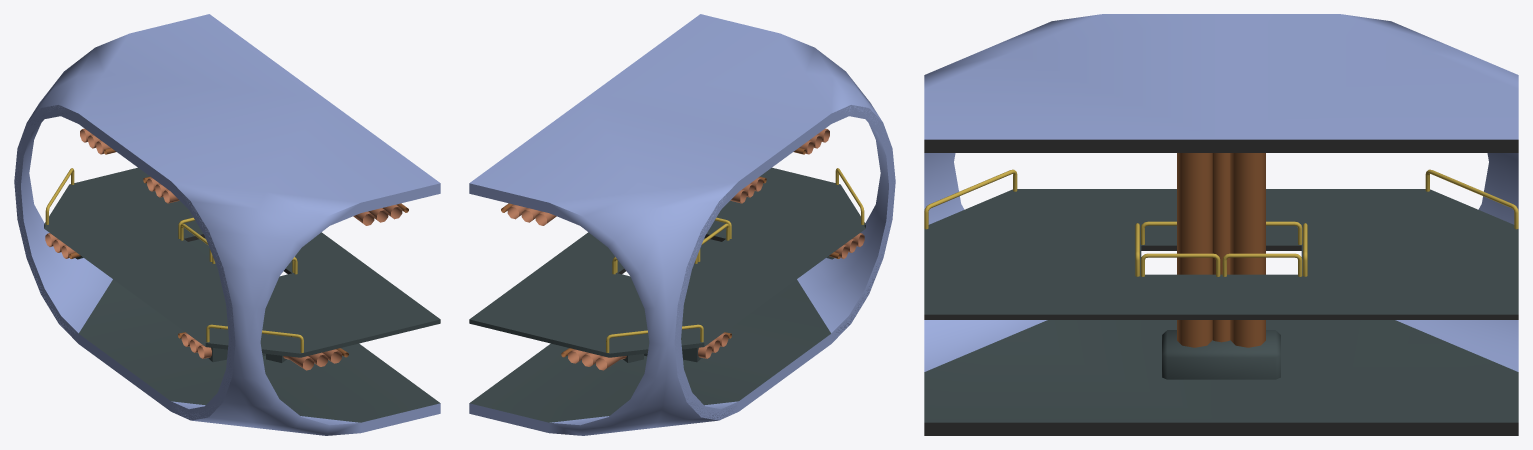
File: Block_mid_02_2.fbx
3 renders of one model, left to right at view 1: azimuth 30°, elevation 25°; view 2: azimuth 150°, elevation 25°; view 3: azimuth 270°, elevation 25°, orthographic. The views are drawn at different scales.
Parts seen in each view (by area): view 1: Circle.001; view 2: Circle.001; view 3: Circle.001.
Part boxes in pixels (x1=…): Circle.001: x1=14, y1=14, x2=440, y2=435; Circle.001: x1=469, y1=14, x2=895, y2=435; Circle.001: x1=924, y1=14, x2=1518, y2=435.
Size of the model in its own units: 10 by 11 by 20.
